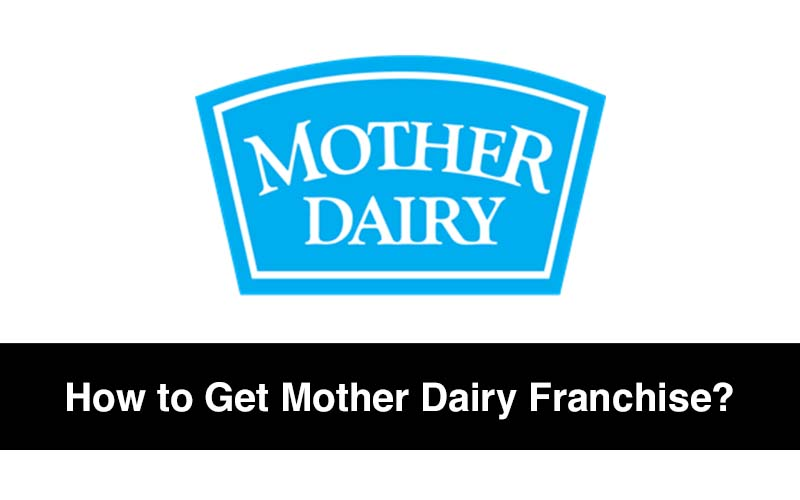Mother_Dairy: (167, 43, 619, 314)
